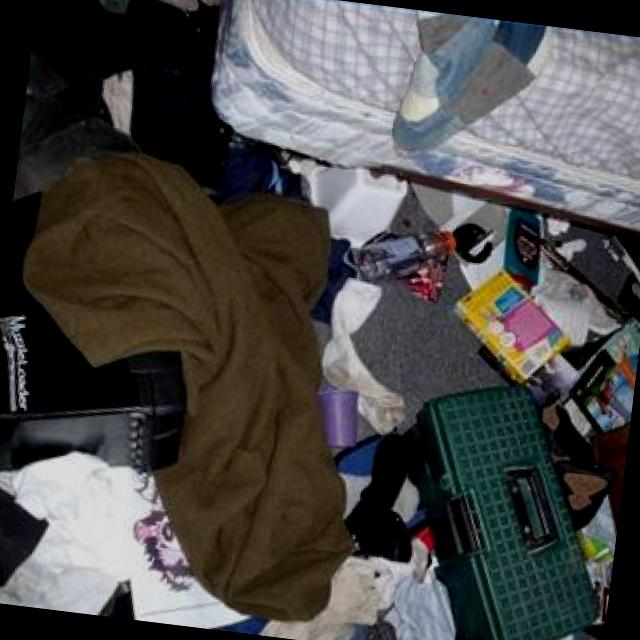mess: (0, 151, 640, 640), (212, 0, 640, 184), (17, 0, 227, 222), (198, 120, 444, 232)
